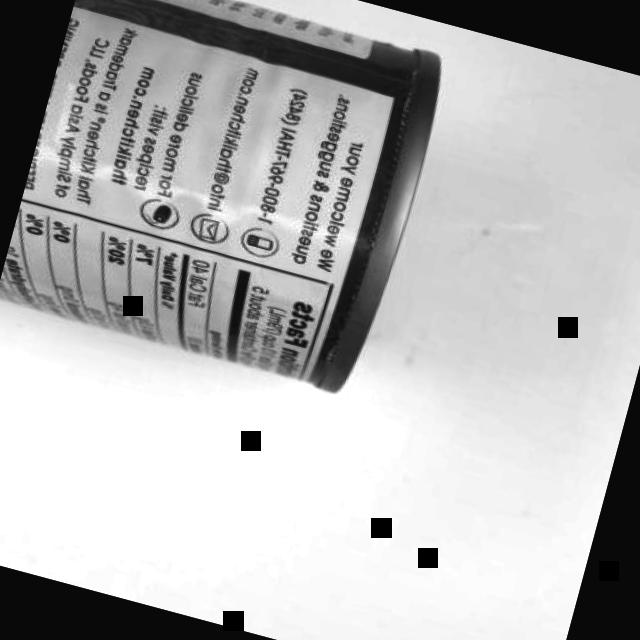can: (0, 0, 462, 410)
